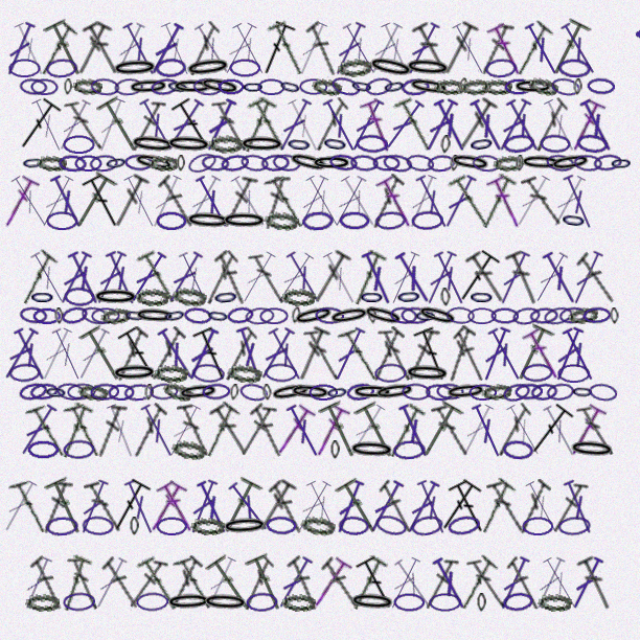chain: (357, 62, 404, 89), (352, 300, 394, 326), (404, 300, 446, 326), (183, 64, 229, 87), (281, 154, 323, 179), (130, 138, 176, 160), (286, 301, 328, 325), (393, 65, 439, 86), (196, 82, 238, 105), (133, 155, 175, 178), (550, 430, 596, 451), (340, 576, 386, 597), (396, 83, 438, 105), (320, 302, 362, 324), (264, 375, 306, 397), (113, 66, 159, 86), (183, 212, 229, 232), (218, 504, 264, 524), (165, 139, 210, 159), (393, 358, 438, 378), (340, 431, 385, 451), (200, 577, 245, 597), (436, 156, 477, 177), (532, 156, 573, 177), (364, 375, 405, 396), (113, 358, 158, 377), (165, 577, 210, 596), (364, 501, 398, 526), (176, 376, 217, 396), (235, 140, 280, 158), (218, 213, 263, 231), (95, 286, 140, 304), (432, 376, 473, 395), (185, 154, 216, 179), (170, 430, 205, 452), (399, 502, 432, 525), (434, 502, 467, 525), (283, 377, 324, 395), (161, 374, 193, 397), (129, 85, 169, 103), (135, 304, 175, 322), (329, 65, 363, 86), (171, 284, 205, 305), (294, 503, 328, 524), (322, 82, 353, 105), (504, 158, 544, 175), (259, 212, 293, 232), (224, 358, 258, 378), (487, 138, 519, 159), (557, 138, 589, 159), (83, 302, 113, 324), (526, 302, 556, 324), (486, 375, 516, 397), (511, 83, 542, 104), (549, 302, 580, 323), (487, 576, 518, 597), (50, 66, 82, 86), (470, 66, 502, 86), (540, 66, 572, 86), (171, 86, 211, 102), (497, 86, 537, 102), (304, 159, 344, 175), (190, 358, 222, 378), (343, 378, 383, 394), (382, 431, 414, 451), (50, 504, 82, 524), (540, 504, 572, 524), (206, 139, 239, 158), (304, 84, 335, 104), (295, 212, 326, 232), (365, 212, 396, 232), (102, 303, 133, 323), (487, 431, 518, 451), (355, 83, 384, 104), (64, 302, 93, 323), (24, 375, 53, 396), (533, 84, 563, 104), (372, 157, 402, 177), (136, 286, 169, 304), (276, 286, 309, 304), (154, 359, 187, 377), (189, 505, 222, 523), (31, 578, 64, 596), (276, 578, 309, 596), (521, 578, 554, 596), (155, 66, 186, 85), (347, 139, 378, 158), (400, 212, 431, 231), (15, 358, 46, 377), (260, 358, 291, 377), (365, 358, 396, 377), (505, 358, 536, 377), (67, 431, 98, 450), (85, 504, 116, 523), (330, 504, 361, 523), (67, 577, 98, 596), (137, 577, 168, 596), (242, 577, 273, 596), (150, 84, 179, 104), (217, 157, 246, 177), (236, 157, 265, 177), (394, 157, 423, 177), (528, 157, 557, 177), (496, 303, 525, 323), (235, 376, 264, 396), (569, 376, 598, 396), (523, 139, 553, 158), (68, 285, 98, 304), (60, 376, 90, 395), (467, 376, 497, 395), (261, 504, 291, 523), (314, 138, 341, 159), (454, 138, 481, 159), (542, 211, 569, 232), (15, 67, 46, 85), (67, 140, 98, 158), (540, 359, 571, 377), (417, 578, 448, 596), (337, 376, 366, 395), (226, 67, 256, 85), (447, 85, 477, 103), (478, 158, 508, 176), (51, 213, 81, 231), (156, 213, 186, 231), (331, 213, 361, 231), (81, 377, 111, 395), (33, 432, 63, 450), (156, 505, 186, 523), (506, 505, 536, 523), (383, 578, 413, 596), (267, 157, 295, 176), (321, 157, 349, 176), (574, 157, 602, 176), (25, 303, 53, 322), (223, 303, 251, 322), (379, 303, 407, 322), (541, 303, 569, 322), (35, 376, 63, 395), (529, 376, 557, 395), (93, 85, 122, 103), (191, 85, 220, 103), (241, 304, 270, 322), (125, 377, 154, 395), (280, 139, 306, 159), (210, 285, 236, 305), (514, 376, 541, 395), (25, 85, 53, 103), (116, 85, 144, 103), (390, 85, 418, 103), (62, 158, 90, 176), (92, 158, 120, 176), (199, 158, 227, 176), (341, 158, 369, 176), (415, 158, 443, 176), (458, 158, 486, 176), (555, 158, 583, 176), (182, 304, 210, 322), (513, 304, 541, 322), (413, 377, 441, 395), (272, 84, 297, 104), (385, 285, 411, 304), (76, 85, 105, 102), (165, 84, 189, 104), (256, 158, 284, 175), (308, 304, 336, 321), (390, 304, 418, 321), (433, 304, 461, 321), (71, 377, 99, 394), (93, 377, 121, 394), (391, 377, 419, 394), (422, 86, 451, 102), (468, 86, 497, 102), (42, 159, 71, 175), (149, 159, 178, 175), (568, 85, 595, 102), (126, 158, 153, 175), (564, 304, 591, 321), (150, 377, 177, 394), (200, 377, 227, 394), (424, 377, 451, 394), (499, 377, 526, 394), (341, 84, 365, 103), (372, 84, 396, 103), (106, 157, 130, 176), (162, 303, 186, 322), (35, 286, 60, 304), (350, 286, 375, 304), (455, 286, 480, 304), (94, 305, 122, 321), (255, 305, 283, 321), (454, 305, 482, 321), (302, 378, 330, 394), (36, 86, 63, 102), (253, 86, 280, 102), (293, 86, 320, 102), (489, 86, 516, 102), (78, 159, 105, 175), (363, 159, 390, 175), (38, 305, 65, 321), (476, 305, 503, 321), (455, 378, 482, 394), (215, 86, 241, 102), (110, 378, 136, 394), (204, 304, 227, 322), (49, 377, 72, 395), (318, 377, 341, 395), (27, 158, 50, 175), (125, 304, 148, 321), (553, 377, 575, 394), (238, 86, 260, 102), (590, 159, 612, 175), (403, 305, 425, 321), (444, 85, 455, 102), (428, 140, 438, 158), (428, 286, 438, 304), (285, 304, 295, 321), (358, 304, 368, 321), (323, 432, 332, 450), (131, 505, 140, 523), (463, 578, 472, 596), (226, 378, 236, 394), (555, 86, 564, 102), (437, 159, 446, 175), (59, 305, 68, 321), (590, 305, 599, 321), (145, 378, 154, 394), (258, 378, 267, 394), (68, 86, 76, 102), (176, 159, 184, 175), (500, 159, 508, 175)
double: (203, 540, 253, 598), (72, 175, 120, 233), (82, 321, 130, 379), (327, 467, 375, 525), (508, 395, 557, 451), (439, 248, 487, 305), (99, 102, 146, 160), (404, 394, 451, 452), (19, 103, 67, 159), (169, 102, 216, 159), (422, 467, 469, 524), (345, 394, 391, 452), (213, 467, 259, 525), (48, 28, 93, 87), (528, 28, 573, 87), (118, 321, 164, 378), (494, 320, 538, 379), (311, 393, 355, 452), (49, 466, 93, 525), (108, 467, 153, 524), (84, 175, 128, 233), (434, 467, 478, 525), (346, 540, 390, 598), (241, 539, 284, 598), (222, 469, 269, 522), (370, 104, 416, 158), (39, 30, 83, 86), (494, 30, 538, 86), (434, 176, 478, 232), (329, 322, 373, 378), (371, 395, 415, 451), (136, 541, 180, 597), (441, 541, 485, 597), (136, 248, 179, 305), (336, 540, 379, 597), (380, 542, 425, 596), (161, 103, 205, 158), (126, 249, 170, 304), (451, 249, 495, 304), (206, 395, 250, 450), (266, 395, 310, 450), (301, 541, 345, 596), (259, 176, 302, 232), (21, 249, 64, 305), (31, 395, 74, 451), (242, 102, 284, 159), (460, 175, 502, 232), (460, 467, 502, 524), (172, 540, 214, 597), (190, 321, 231, 379), (266, 250, 310, 304), (189, 30, 232, 85), (441, 103, 484, 158), (14, 176, 57, 231), (224, 176, 267, 231), (329, 176, 372, 231), (381, 249, 424, 304), (154, 322, 197, 377), (21, 395, 64, 450), (336, 395, 379, 450), (249, 468, 292, 523), (232, 102, 273, 159), (382, 102, 423, 159), (337, 248, 378, 305), (67, 394, 108, 451), (197, 394, 238, 451), (15, 467, 56, 524), (251, 29, 291, 87), (401, 321, 441, 379), (330, 30, 372, 85), (540, 30, 582, 85), (180, 176, 222, 231), (295, 176, 337, 231), (495, 176, 537, 231), (32, 249, 74, 304), (162, 249, 204, 304), (232, 249, 274, 304), (277, 249, 319, 304), (302, 249, 344, 304), (512, 249, 554, 304), (5, 322, 47, 377), (250, 322, 292, 377), (505, 322, 547, 377), (487, 395, 529, 450), (145, 468, 187, 523), (155, 468, 197, 523), (285, 468, 327, 523), (267, 541, 309, 596), (522, 541, 564, 596), (145, 30, 186, 86), (215, 30, 256, 86), (225, 30, 266, 86), (355, 30, 396, 86), (400, 30, 441, 86), (435, 30, 476, 86), (505, 30, 546, 86), (57, 103, 98, 159), (312, 103, 353, 159), (337, 103, 378, 159), (452, 103, 493, 159), (487, 103, 528, 159), (5, 176, 46, 232), (40, 176, 81, 232), (190, 176, 231, 232), (320, 176, 361, 232), (365, 176, 406, 232), (530, 176, 571, 232), (312, 249, 353, 305), (522, 249, 563, 305), (260, 322, 301, 378), (470, 322, 511, 378), (162, 395, 203, 451), (277, 395, 318, 451), (522, 395, 563, 451), (390, 468, 431, 524), (505, 468, 546, 524), (92, 541, 133, 597), (417, 541, 458, 597), (261, 29, 301, 86), (85, 30, 126, 85), (137, 103, 178, 158), (547, 395, 588, 450), (5, 468, 46, 523), (355, 468, 396, 523), (121, 30, 161, 86), (391, 30, 431, 86), (426, 30, 466, 86), (471, 30, 511, 86), (268, 103, 308, 159), (278, 103, 318, 159), (408, 103, 448, 159), (418, 103, 458, 159), (478, 103, 518, 159), (523, 103, 563, 159), (558, 103, 598, 159), (51, 176, 91, 232), (111, 176, 151, 232), (121, 176, 161, 232), (401, 176, 441, 232), (426, 176, 466, 232), (58, 249, 98, 305), (16, 322, 56, 378), (76, 322, 116, 378), (541, 322, 581, 378), (138, 395, 178, 451), (303, 395, 343, 451), (443, 395, 483, 451), (373, 541, 413, 597), (548, 541, 588, 597), (556, 251, 599, 303), (102, 542, 144, 595), (312, 542, 354, 595), (58, 394, 97, 451), (76, 30, 115, 86), (111, 30, 150, 86), (321, 30, 360, 86), (33, 103, 72, 159), (198, 103, 237, 159), (548, 103, 587, 159), (146, 176, 185, 232), (286, 176, 325, 232), (471, 176, 510, 232), (68, 249, 107, 305), (93, 249, 132, 305), (173, 249, 212, 305), (418, 249, 457, 305), (41, 322, 80, 378), (181, 322, 220, 378), (321, 322, 360, 378), (191, 468, 230, 524), (296, 468, 335, 524), (198, 541, 237, 597), (513, 541, 552, 597), (558, 541, 597, 597), (505, 177, 546, 230), (145, 323, 186, 376), (128, 396, 168, 450), (127, 543, 168, 595), (17, 30, 55, 86), (367, 30, 405, 86), (104, 249, 142, 305), (349, 249, 387, 305), (374, 249, 412, 305), (409, 249, 447, 305), (479, 249, 517, 305), (489, 249, 527, 305), (549, 249, 587, 305), (52, 322, 90, 378), (384, 395, 422, 451), (454, 395, 492, 451), (122, 468, 160, 524), (479, 541, 517, 597), (68, 104, 108, 157), (156, 177, 196, 230), (453, 542, 493, 595), (59, 540, 96, 597), (356, 177, 395, 231), (163, 542, 202, 596), (7, 30, 44, 86), (157, 30, 194, 86), (287, 30, 324, 86), (392, 176, 429, 232), (542, 176, 579, 232), (287, 322, 324, 378), (532, 322, 569, 378), (402, 468, 439, 524), (542, 468, 579, 524), (24, 541, 61, 597), (478, 396, 517, 449), (558, 396, 597, 449), (514, 104, 552, 158), (199, 250, 237, 304), (244, 250, 282, 304), (112, 323, 150, 377), (217, 323, 255, 377), (357, 323, 395, 377), (419, 396, 457, 450), (87, 469, 125, 523), (262, 469, 300, 523), (472, 469, 510, 523), (497, 469, 535, 523), (532, 469, 570, 523), (489, 542, 527, 596), (217, 176, 254, 231), (244, 395, 281, 450), (34, 541, 71, 596), (95, 103, 131, 159), (350, 103, 386, 159), (463, 322, 499, 378), (105, 395, 141, 451), (78, 468, 114, 524), (183, 468, 219, 524), (323, 468, 359, 524), (304, 104, 342, 157), (234, 396, 272, 449), (367, 469, 405, 522), (209, 104, 246, 158), (297, 323, 334, 377), (463, 30, 499, 85), (210, 249, 246, 304), (183, 31, 219, 85), (130, 104, 166, 158), (438, 323, 474, 377), (235, 542, 271, 596), (410, 542, 446, 596), (298, 30, 333, 85), (393, 322, 428, 377), (280, 541, 315, 596), (229, 322, 263, 378), (368, 323, 403, 377), (429, 322, 463, 377), (96, 395, 129, 450), (176, 395, 209, 450), (44, 468, 77, 523), (71, 541, 104, 596), (256, 176, 285, 232)
noise: (612, 38, 640, 49)
